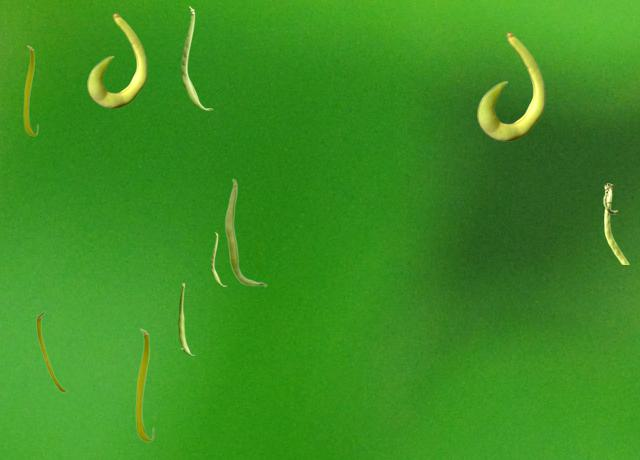french_bean: (477, 32, 544, 140), (87, 13, 146, 107), (224, 178, 266, 286), (181, 6, 212, 109), (36, 311, 66, 391), (135, 328, 153, 441), (603, 183, 628, 263), (23, 45, 37, 135), (178, 283, 194, 354), (211, 232, 226, 285)
